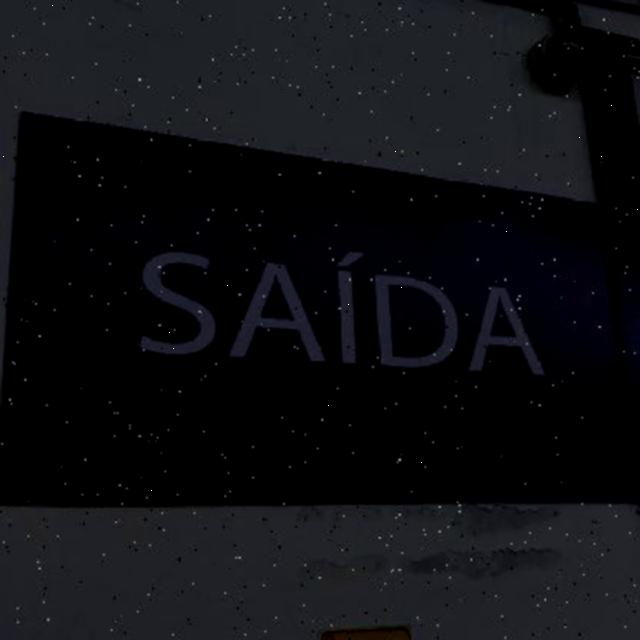emergency_exit: (0, 107, 640, 509), (317, 625, 413, 640)
